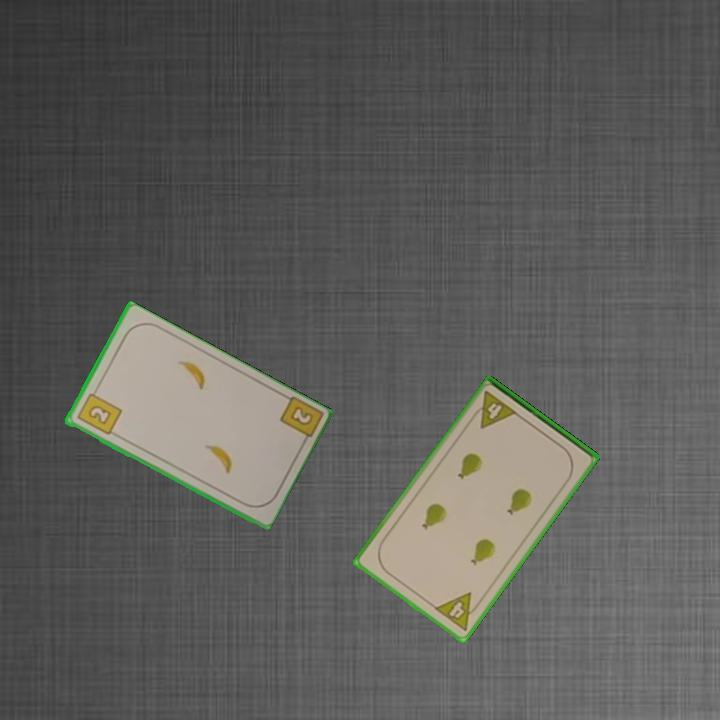2b: (73, 385, 124, 438), (276, 393, 324, 449)
4p: (431, 589, 485, 634), (467, 387, 520, 432)
